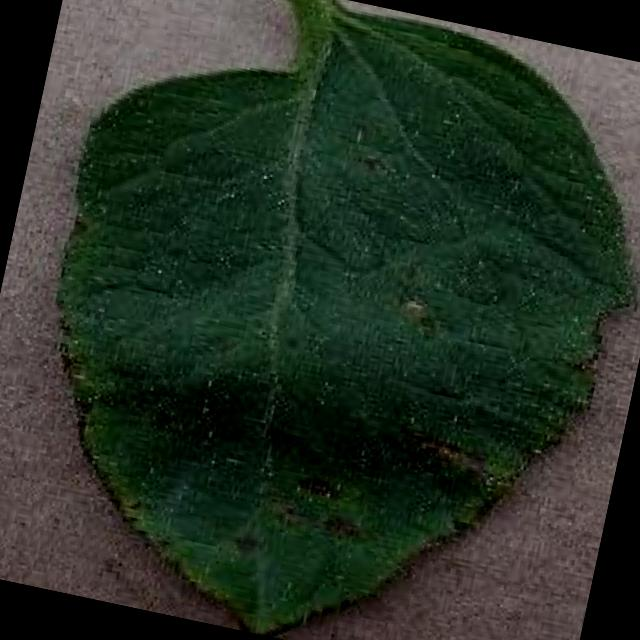bacterial spot: (56, 0, 640, 632)
